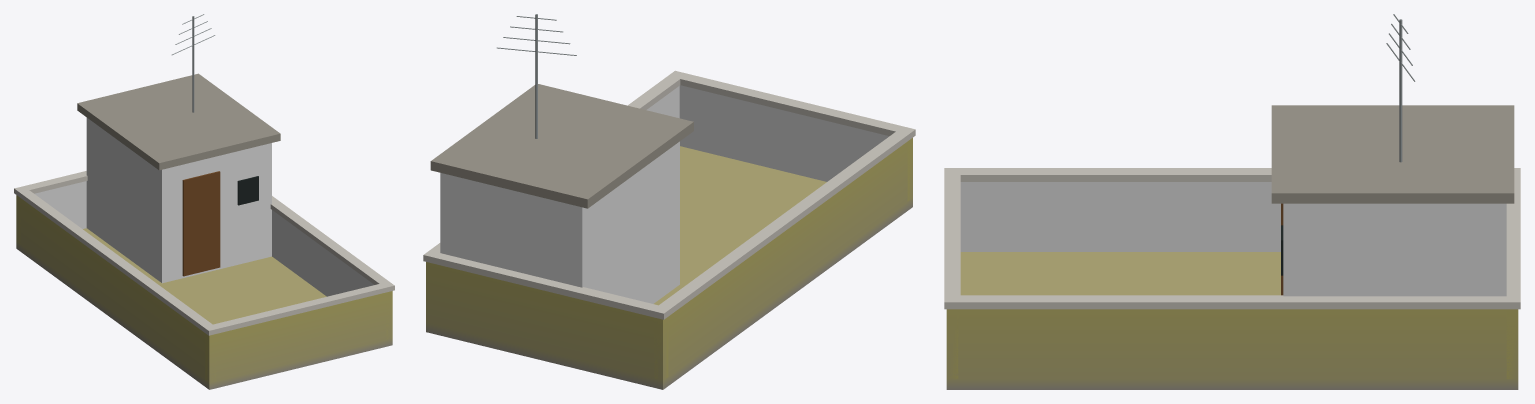
Rendered from mai_tum_40.glb.
3 views of the same model, side by side, from view 1: azimuth 30°, elevation 25°; view 2: azimuth 150°, elevation 25°; view 3: azimuth 270°, elevation 25° (orthographic). The views are drawn at different scales.
Visible parts, largest first — view 1: mai_tum_40; view 2: mai_tum_40; view 3: mai_tum_40.
Part boxes in pixels (box(x1,y1,x2,y2)): mai_tum_40: box(14, 14, 394, 389); mai_tum_40: box(423, 14, 915, 389); mai_tum_40: box(944, 14, 1520, 389).
Size of the model in its own units: 4.06 by 4.75 by 7.36.
